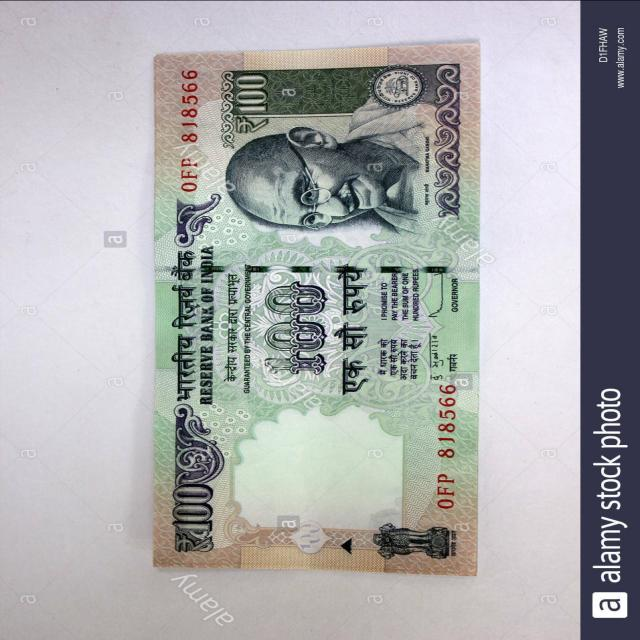100IndianRupees: (164, 53, 478, 574)
